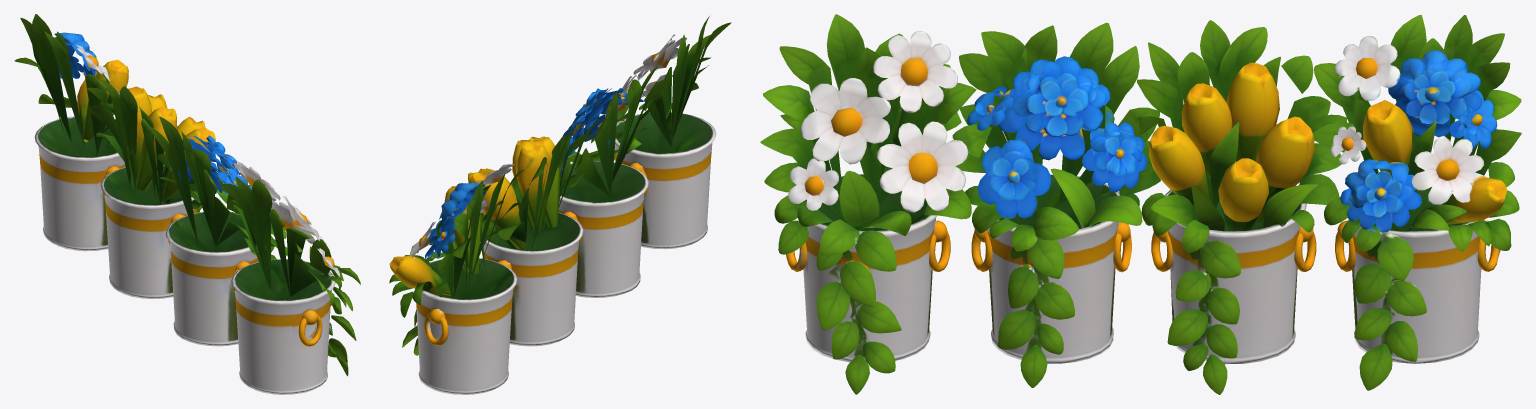
File: HaloReasonHQ_FlowerCart_Bouquet_SM_tex4k_pbr_src.fbx
3 views of the same model, side by side, from view 1: azimuth 30°, elevation 25°; view 2: azimuth 150°, elevation 25°; view 3: azimuth 270°, elevation 25° (orthographic). The views are drawn at different scales.
Parts seen in each view (by area): view 1: tripo_955476c4_1470_46c3_bff3_826cf2fcf9ed; view 2: tripo_955476c4_1470_46c3_bff3_826cf2fcf9ed; view 3: tripo_955476c4_1470_46c3_bff3_826cf2fcf9ed.
Part boxes in pixels (x1=…): tripo_955476c4_1470_46c3_bff3_826cf2fcf9ed: x1=14, y1=14, x2=360, y2=394; tripo_955476c4_1470_46c3_bff3_826cf2fcf9ed: x1=389, y1=16, x2=731, y2=394; tripo_955476c4_1470_46c3_bff3_826cf2fcf9ed: x1=760, y1=14, x2=1521, y2=394.
Size of the model in its own units: 0.23 by 0.4575 by 0.9995.
1 material, 1 textured.
